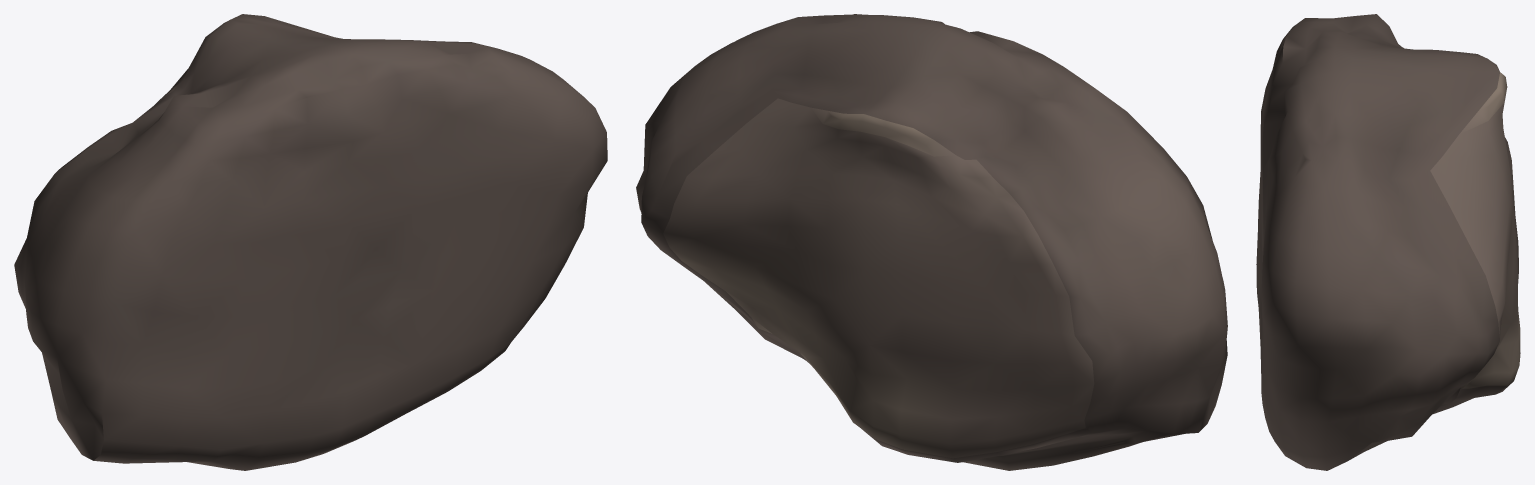
The model's file is SharpRock.008.glb.
3 renders of one model, left to right at view 1: azimuth 30°, elevation 25°; view 2: azimuth 150°, elevation 25°; view 3: azimuth 270°, elevation 25°, orthographic.
Parts seen in each view (by area): view 1: SharpRock.008; view 2: SharpRock.008; view 3: SharpRock.008.
Boxes of the visible parts, x1=… form: SharpRock.008: x1=14, y1=14, x2=607, y2=470; SharpRock.008: x1=636, y1=14, x2=1227, y2=470; SharpRock.008: x1=1256, y1=14, x2=1520, y2=470.
Size of the model in its own units: 470 by 322 by 193.
